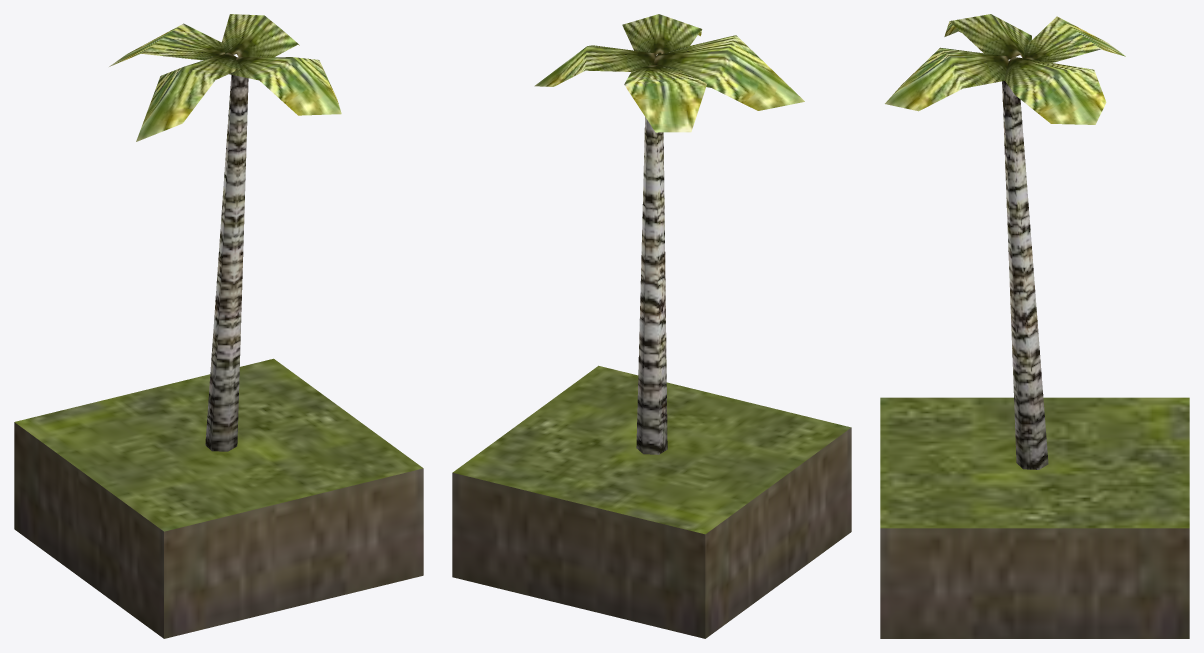
File: tree_model_test.obj
3 views of the same model, side by side, from view 1: azimuth 30°, elevation 25°; view 2: azimuth 150°, elevation 25°; view 3: azimuth 270°, elevation 25° (orthographic). The views are drawn at different scales.
Visible parts, largest first — view 1: grass_earth_1; view 2: grass_earth_1; view 3: grass_earth_1.
Part boxes in pixels (x1,y1,x2,y2): grass_earth_1: (14, 14, 423, 638); grass_earth_1: (452, 14, 851, 638); grass_earth_1: (880, 14, 1189, 638).
Bounding box in the file's own units: 1 × 1.9 × 1.
1 material, 1 textured.
